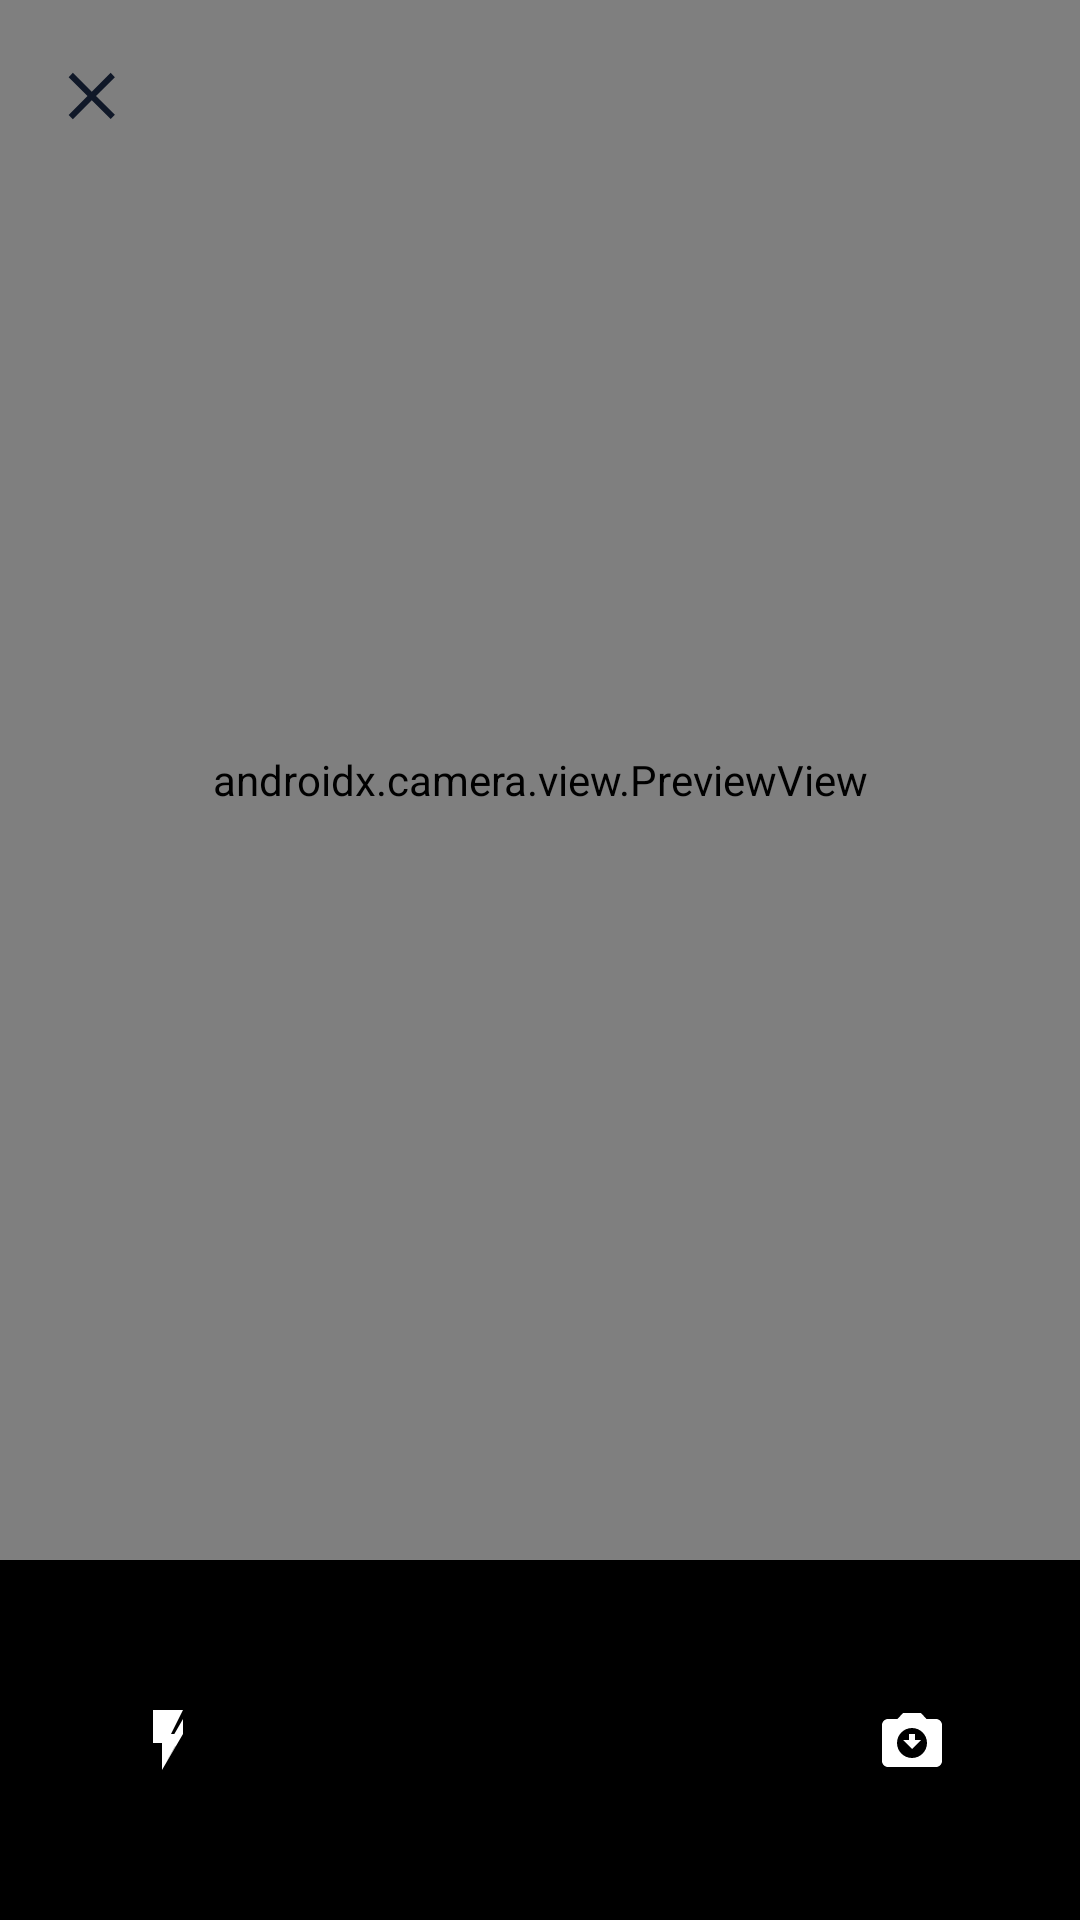

Icon click points for this 1080w x 1920h phone screenshot, format (x,y):
close: (92,96)
